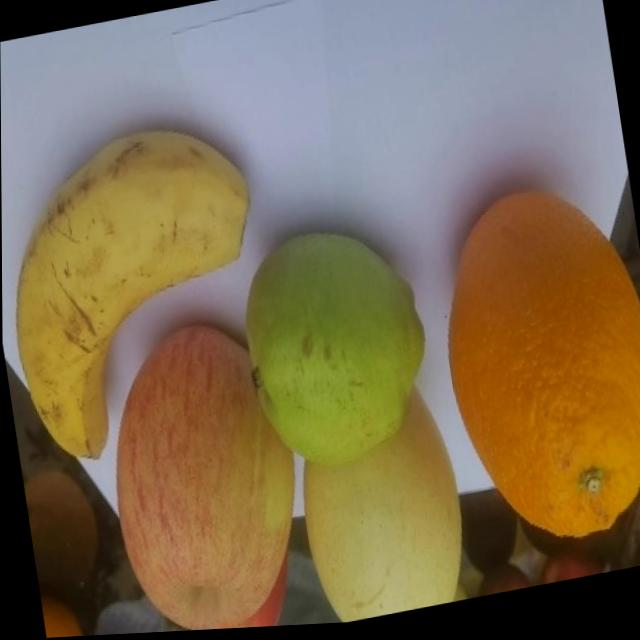Apple: (87, 310, 320, 637), (193, 549, 309, 632)
Banana: (1, 106, 290, 471)
Orange: (423, 173, 640, 565)
